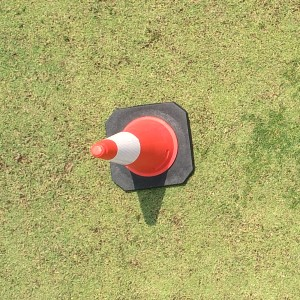traffic cone: (91, 102, 194, 193)
